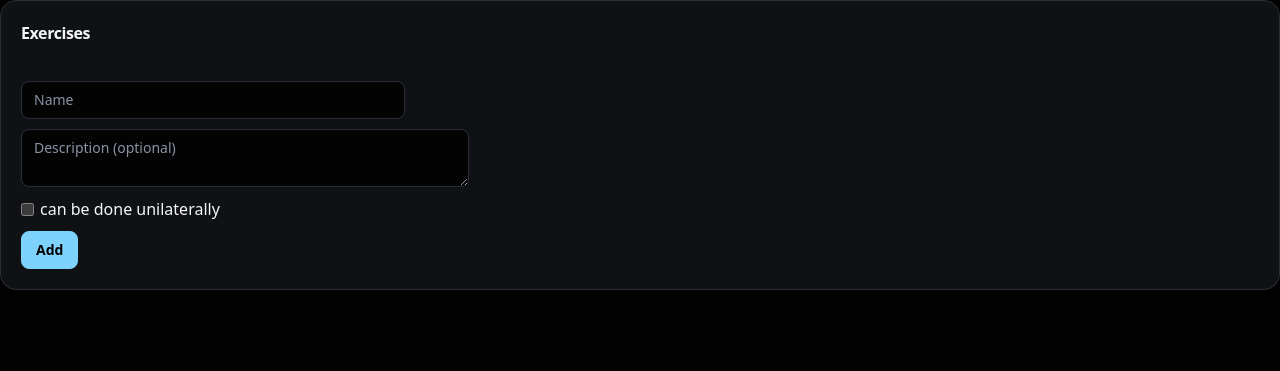
Test: Exercises › creates an exercise marked as unilateral and shows the hint
The width and height of the screenshot is (1280, 371).
Expected: the button "Add" is shown, [21, 231, 78, 269]
Step 1. Type "One-arm row" into the field with placeholder "Name" → (213, 100), box [21, 81, 405, 119]
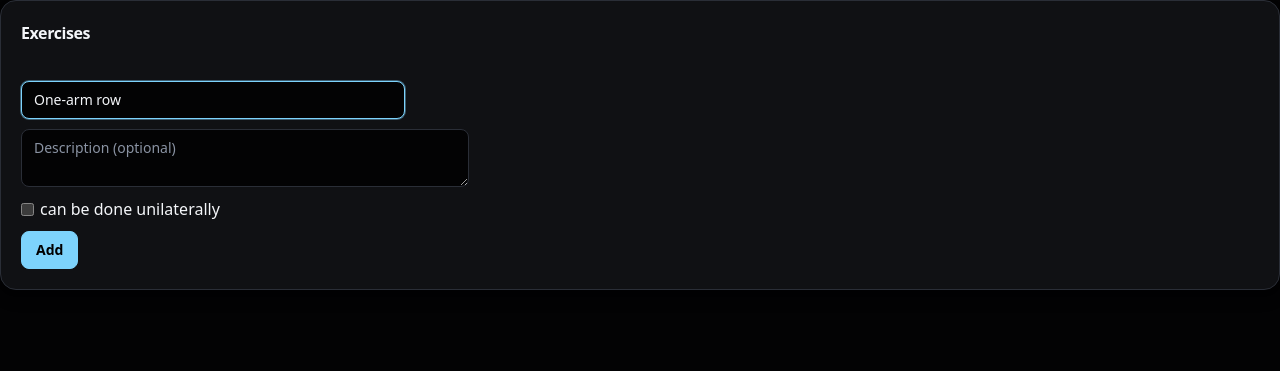
Step 2. Click the checkbox labelled "can be done unilaterally" → (28, 209), box [21, 202, 34, 216]
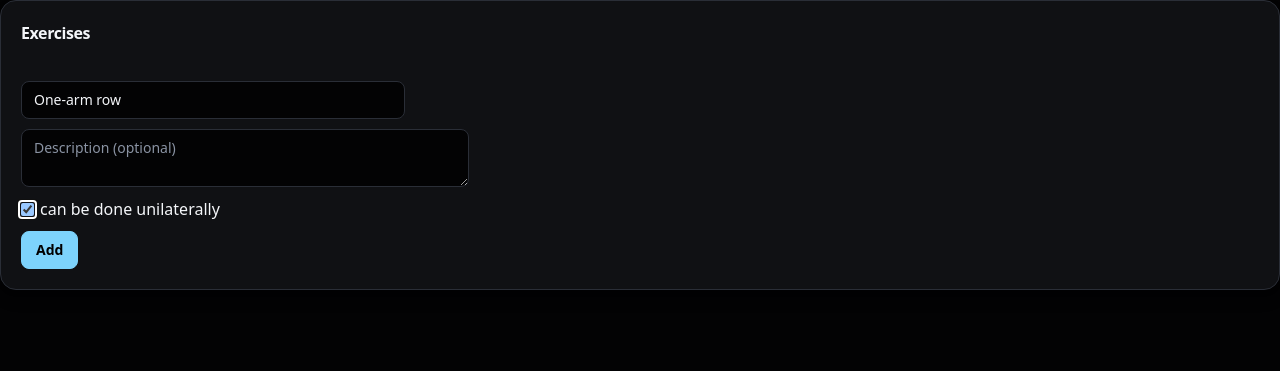
Step 3. Click the button "Add" → (50, 250), box [21, 231, 78, 269]
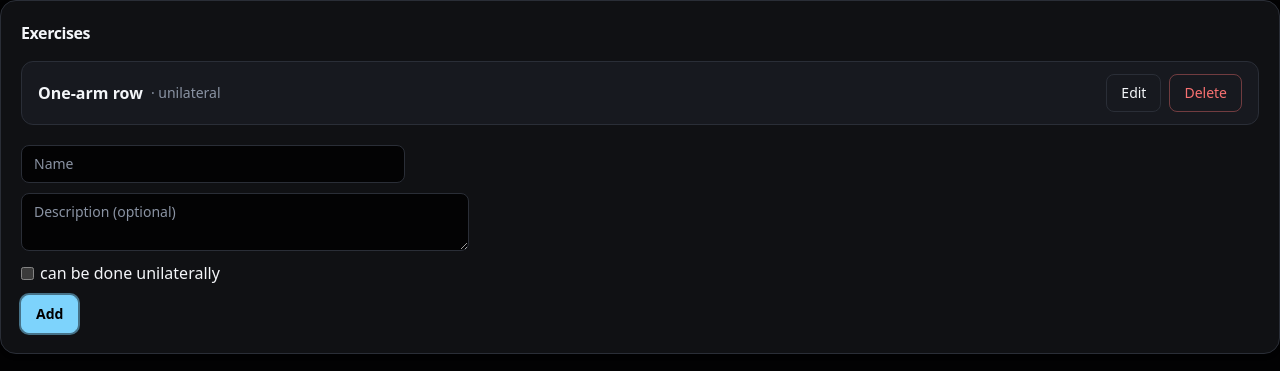
Expected: the text "One-arm row" is shown, [38, 81, 143, 105]
Expected: the text "· unilateral" is shown, [151, 83, 221, 103]
